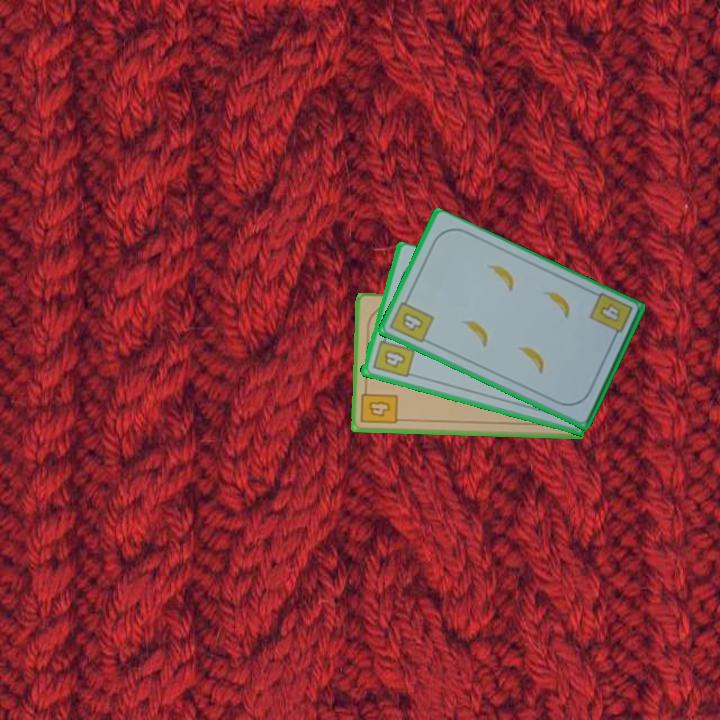4b: (386, 293, 437, 346), (586, 289, 635, 344), (369, 331, 417, 381), (358, 383, 400, 427)
